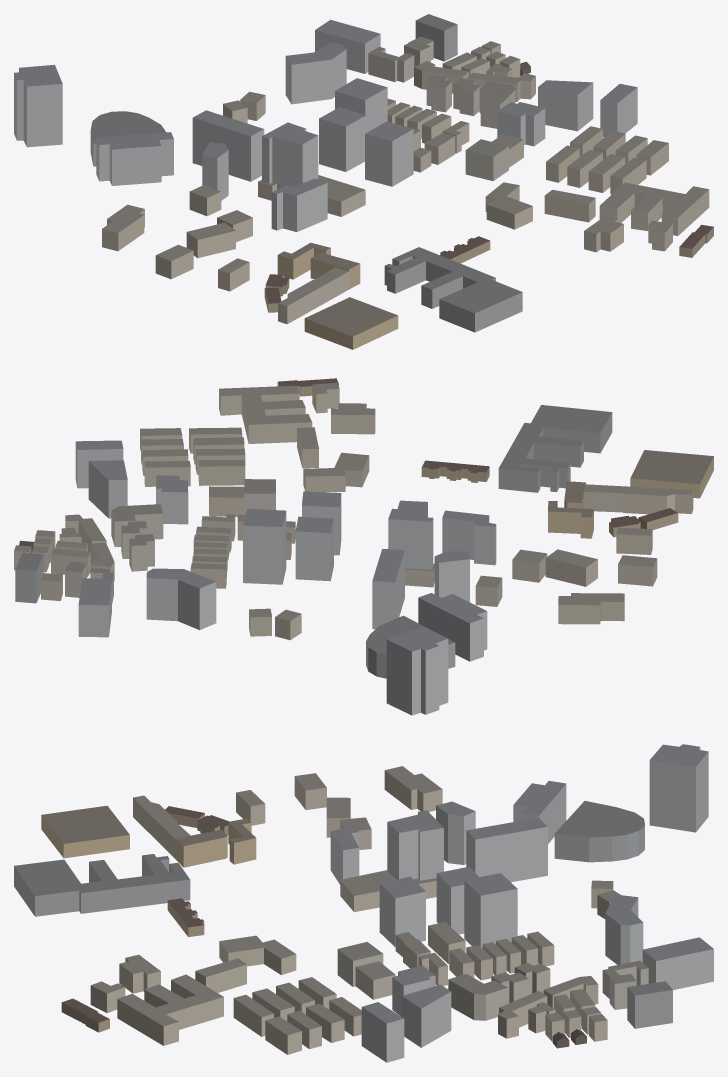
The model's file is tile_5_5.glb.
3 views of the same model, one above another, from view 1: azimuth 30°, elevation 25°; view 2: azimuth 150°, elevation 25°; view 3: azimuth 270°, elevation 25° (orthographic). The views are drawn at different scales.
Parts seen in each view (by area): view 1: HP-w288650737, HP-w505643415, HP-w1286965196, HP-w505633375, HP-w1286965195, HP-w288650734, HP-w505643421, HP-w1286965192, HP-w505633351, HP-w505633352, HP-w505643424, HP-w505633384 (+40 smaller); view 2: HP-w288650737, HP-w505643415, HP-w505633375, HP-w1286965192, HP-w505633353, HP-w1286965196, HP-w288650734, HP-w298783125, HP-w505643421, HP-w505633352, HP-w505643424, HP-w1286965195 (+42 smaller); view 3: HP-w288650737, HP-w505643415, HP-w505633375, HP-w505643433, HP-w1286965195, HP-w505633353, HP-w288650734, HP-w505643421, HP-w505633436, HP-w505633351, HP-w505633384, HP-w1286965192 (+48 smaller).
Boxes of the visible parts, bbox=[...] form: HP-w288650737: bbox=[384, 247, 522, 332]; HP-w505643415: bbox=[14, 64, 62, 147]; HP-w1286965196: bbox=[96, 132, 173, 185]; HP-w505633375: bbox=[599, 182, 709, 235]; HP-w1286965195: bbox=[192, 110, 264, 181]; HP-w288650734: bbox=[304, 297, 398, 349]; HP-w505643421: bbox=[262, 122, 318, 187]; HP-w1286965192: bbox=[285, 42, 346, 104]; HP-w505633351: bbox=[365, 121, 413, 186]; HP-w505633352: bbox=[319, 107, 366, 171]; HP-w505643424: bbox=[271, 178, 327, 231]; HP-w505633384: bbox=[538, 80, 593, 131]; HP-w288650737: bbox=[498, 405, 612, 492]; HP-w505643415: bbox=[386, 626, 448, 715]; HP-w505633375: bbox=[219, 385, 312, 443]; HP-w1286965192: bbox=[146, 568, 216, 630]; HP-w505633353: bbox=[243, 508, 286, 584]; HP-w1286965196: bbox=[418, 593, 487, 661]; HP-w288650734: bbox=[630, 450, 713, 498]; HP-w298783125: bbox=[584, 484, 693, 514]; HP-w505643421: bbox=[388, 500, 433, 569]; HP-w505633352: bbox=[295, 516, 333, 581]; HP-w505643424: bbox=[442, 510, 496, 565]; HP-w1286965195: bbox=[372, 549, 404, 629]; HP-w288650737: bbox=[14, 854, 190, 916]; HP-w505643415: bbox=[649, 744, 708, 832]; HP-w505633375: bbox=[117, 974, 223, 1045]; HP-w505643433: bbox=[554, 801, 644, 862]; HP-w1286965195: bbox=[466, 817, 547, 882]; HP-w505633353: bbox=[464, 873, 517, 948]; HP-w288650734: bbox=[41, 805, 129, 858]; HP-w505643421: bbox=[387, 810, 443, 880]; HP-w505633436: bbox=[642, 937, 713, 989]; HP-w505633351: bbox=[379, 876, 425, 947]; HP-w505633384: bbox=[402, 984, 451, 1047]; HP-w1286965192: bbox=[605, 894, 643, 964].
Bounding box in the file's own units: 546 × 60 × 582.
